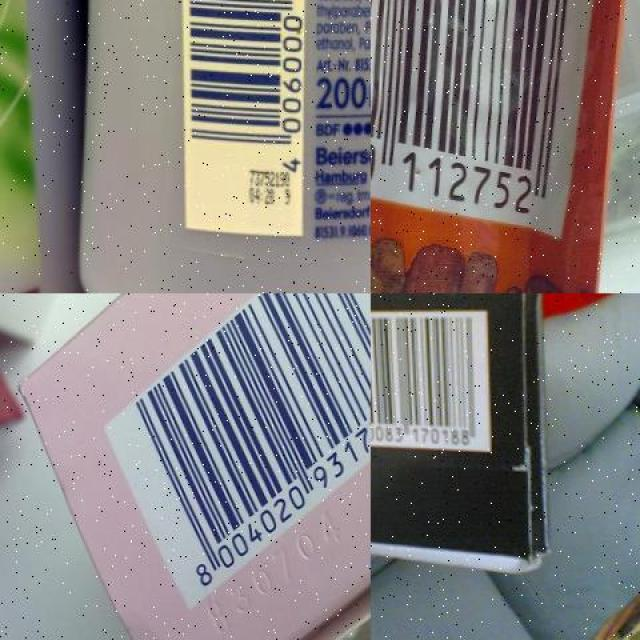Barcode: (93, 294, 371, 610), (370, 0, 606, 239), (166, 0, 316, 241), (371, 308, 486, 444)
